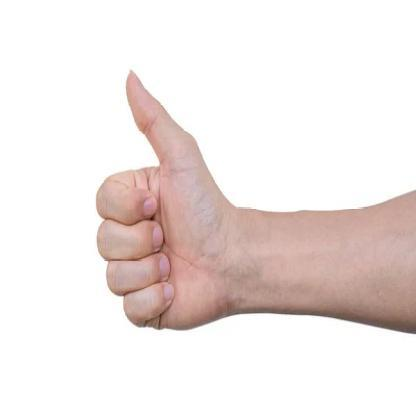thumb_up: (93, 63, 236, 344)
